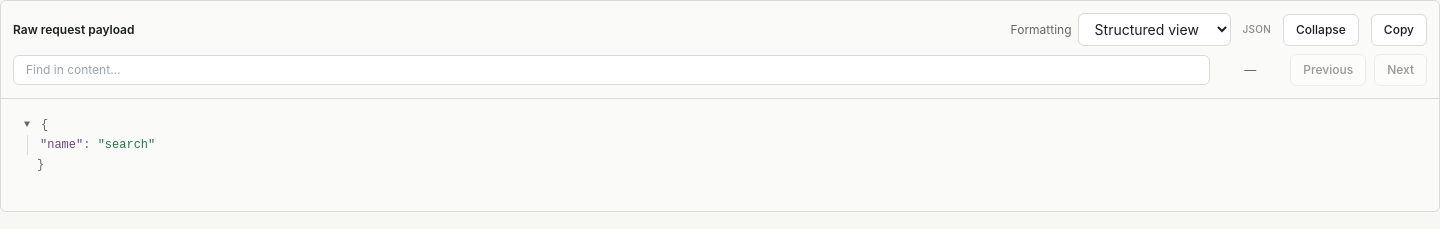
SearchableContentViewer › offers four formatting modes and preserves verbatim JSON
The width and height of the screenshot is (1440, 229).
Expected: the element named "Structured JSON" is shown, [17,115,1423,175]
Select "Verbatim raw" in the dropdown labelled "Formatting": [1154, 30] box [1078,13,1231,46]
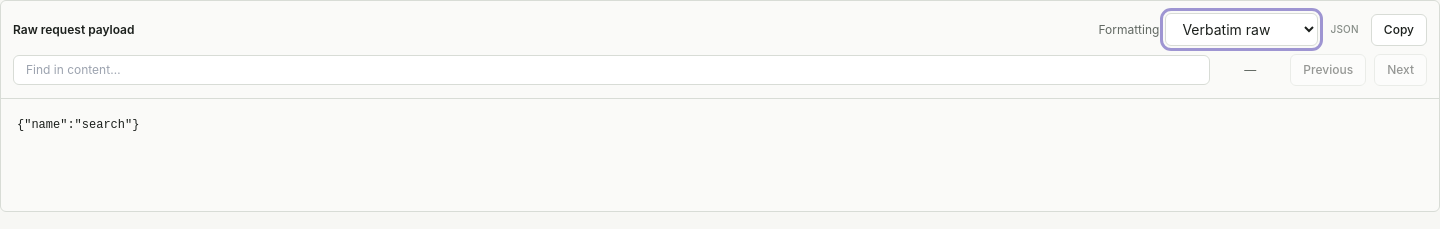
Now the text "{\"name\":\"search\"}" is shown, box [17,118,139,132]
Select "Formatted raw" in the dropdown labelled "Formatting": [1242, 30] box [1165,13,1318,46]
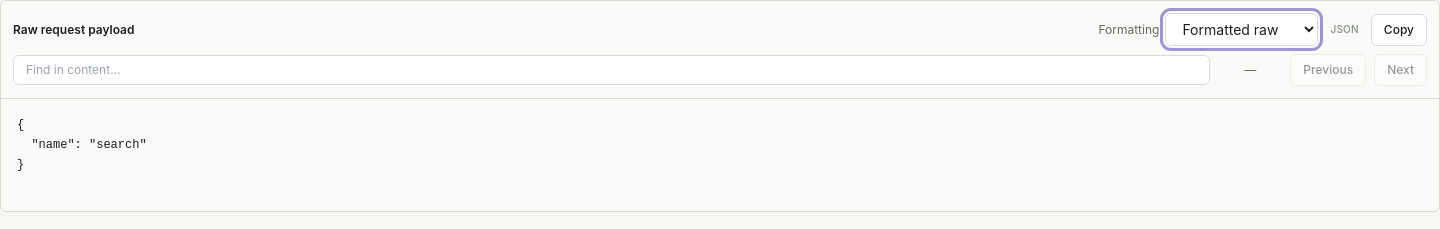
Now the text "{ \"name\": \"search\" }" is shown, box [17,118,147,172]
